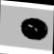correct: (17, 16, 51, 43)
